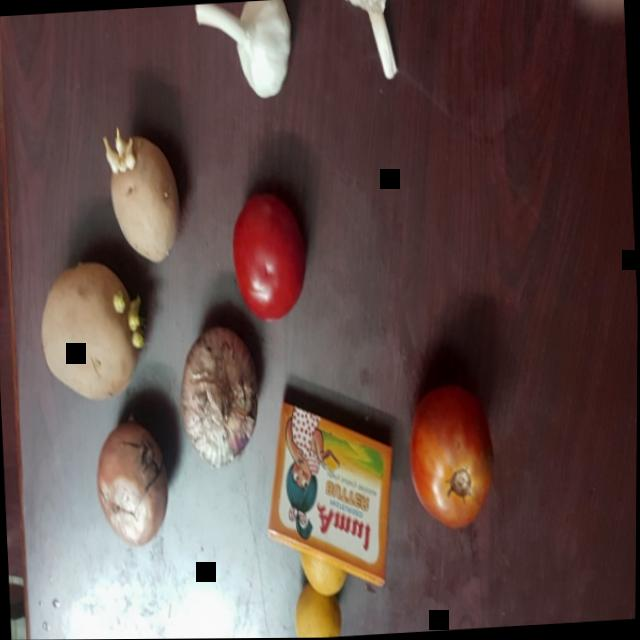butter: (258, 390, 410, 597)
lemon: (295, 529, 350, 605), (293, 576, 344, 638)
onion: (177, 319, 264, 466), (93, 413, 176, 549)
potato: (37, 252, 152, 407), (97, 111, 187, 268)
tomato: (408, 380, 499, 534), (228, 190, 310, 326)
